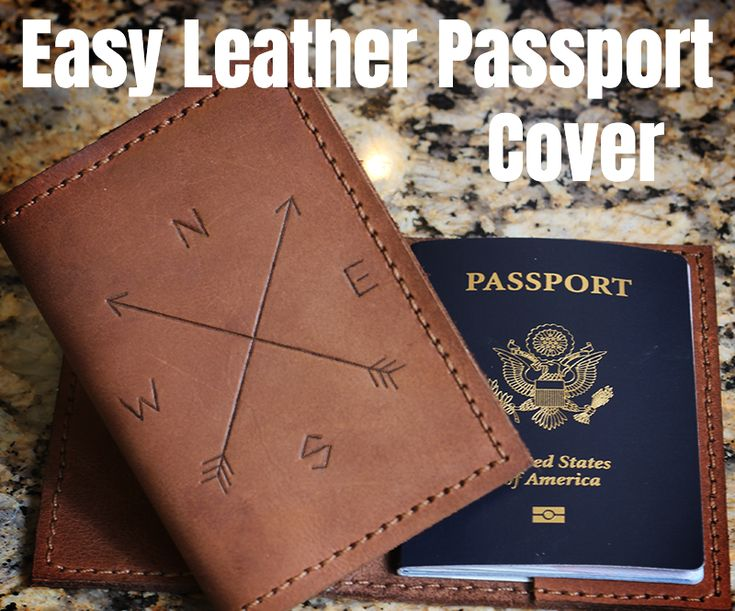cuero: (2, 40, 729, 611)
